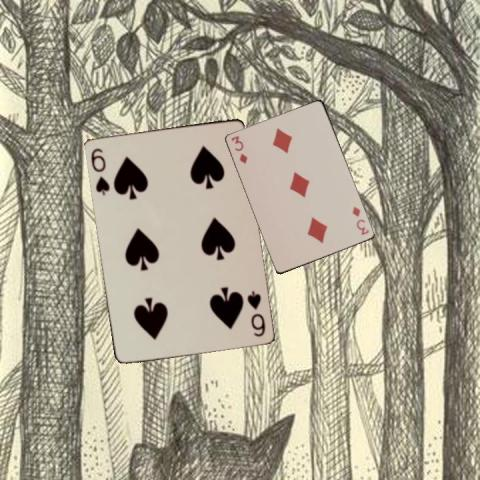3d: (349, 203, 371, 237), (229, 133, 249, 165)
6s: (87, 145, 111, 196), (243, 287, 267, 338)
